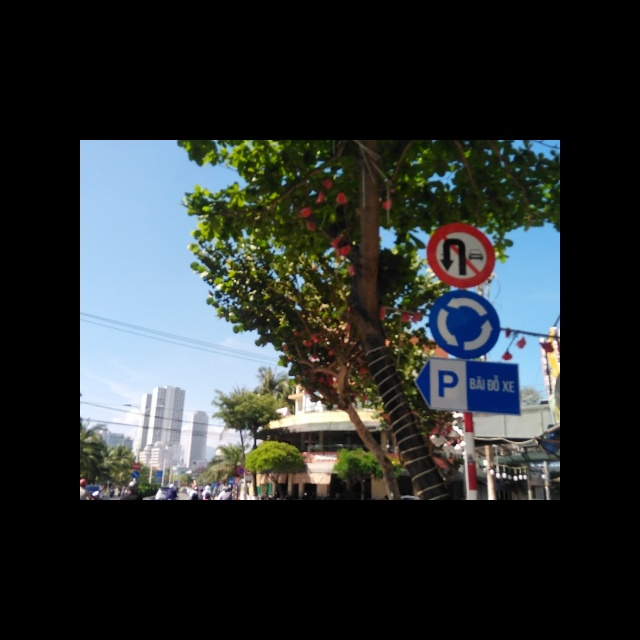Nơi giao nhau chạy theo vòng xuyến: (428, 290, 502, 359), (427, 221, 496, 285)
Nơi đỗ xe: (413, 360, 521, 411)
